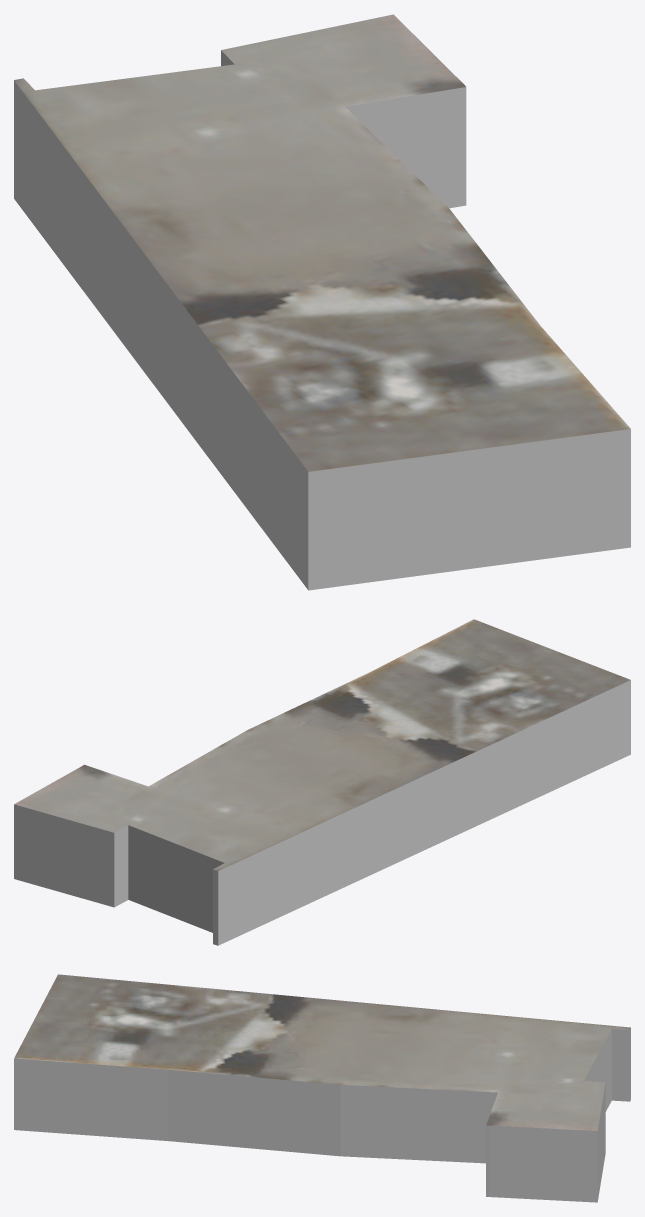
Rendered from DEBW_0010007Tx77.gltf.
3 renders of one model, top to bottom at view 1: azimuth 30°, elevation 25°; view 2: azimuth 150°, elevation 25°; view 3: azimuth 270°, elevation 25°, orthographic. The views are drawn at different scales.
Visible parts, largest first — view 1: Z_UP; view 2: Z_UP; view 3: Z_UP.
Part boxes in pixels (x1,y1,x2,y2): Z_UP: (14,14,630,590); Z_UP: (14,619,630,945); Z_UP: (14,974,630,1202).
Bounding box in the file's own units: 20.02 × 4.26 × 33.31.
Materials: 2 (1 with a texture image).
